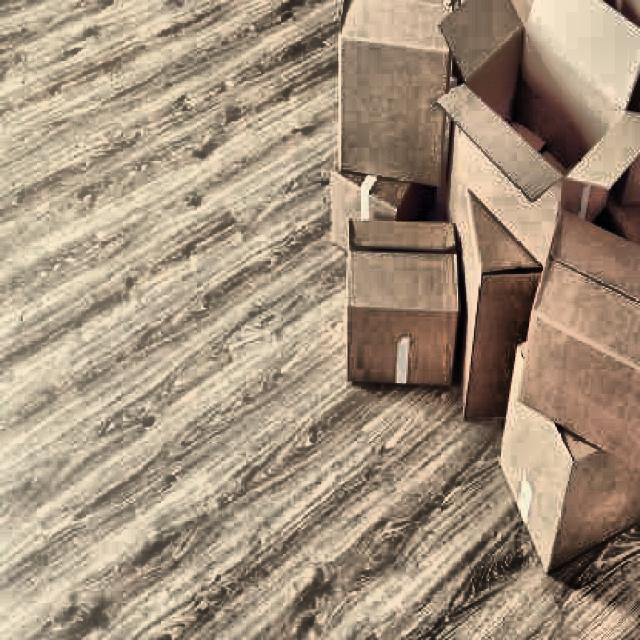Cardbox: (431, 0, 640, 247), (515, 213, 640, 482), (337, 195, 464, 413), (322, 0, 458, 197)
